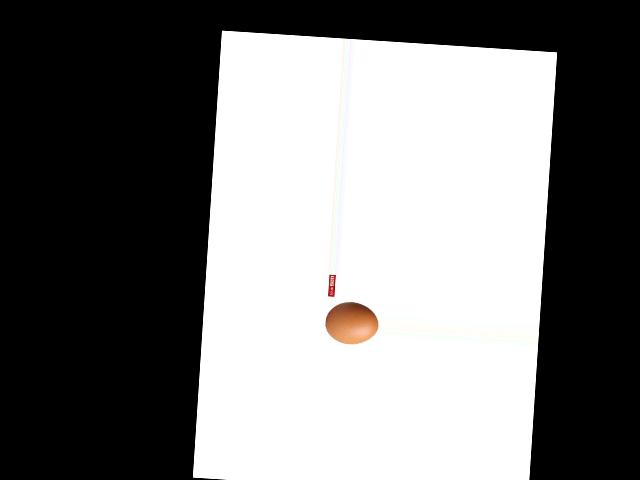egg: (324, 301, 378, 346)
